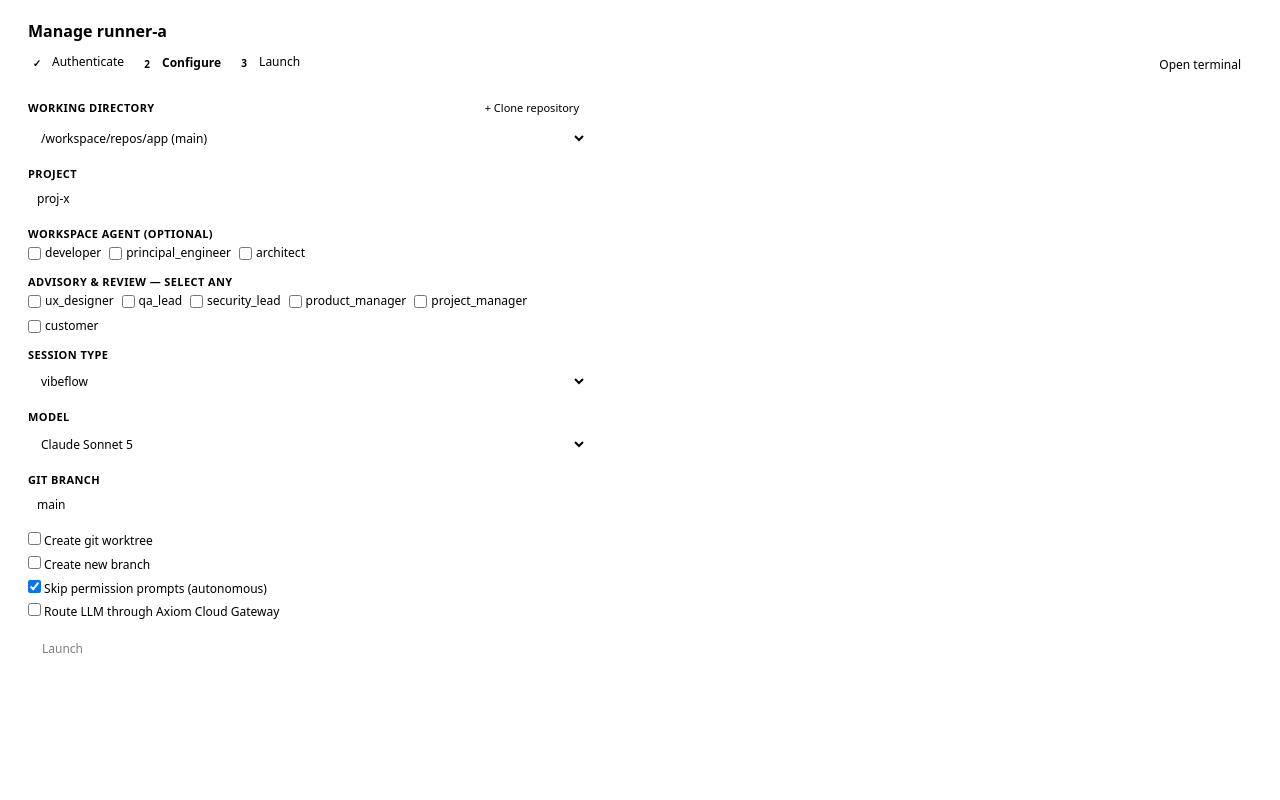
Test: CloudRunnerManageView › enables Launch with only an advisory persona — no workspace agent required (#3111)
Click the checkbox labelled "qa_lead" at (128, 302), box [122,295,135,308]
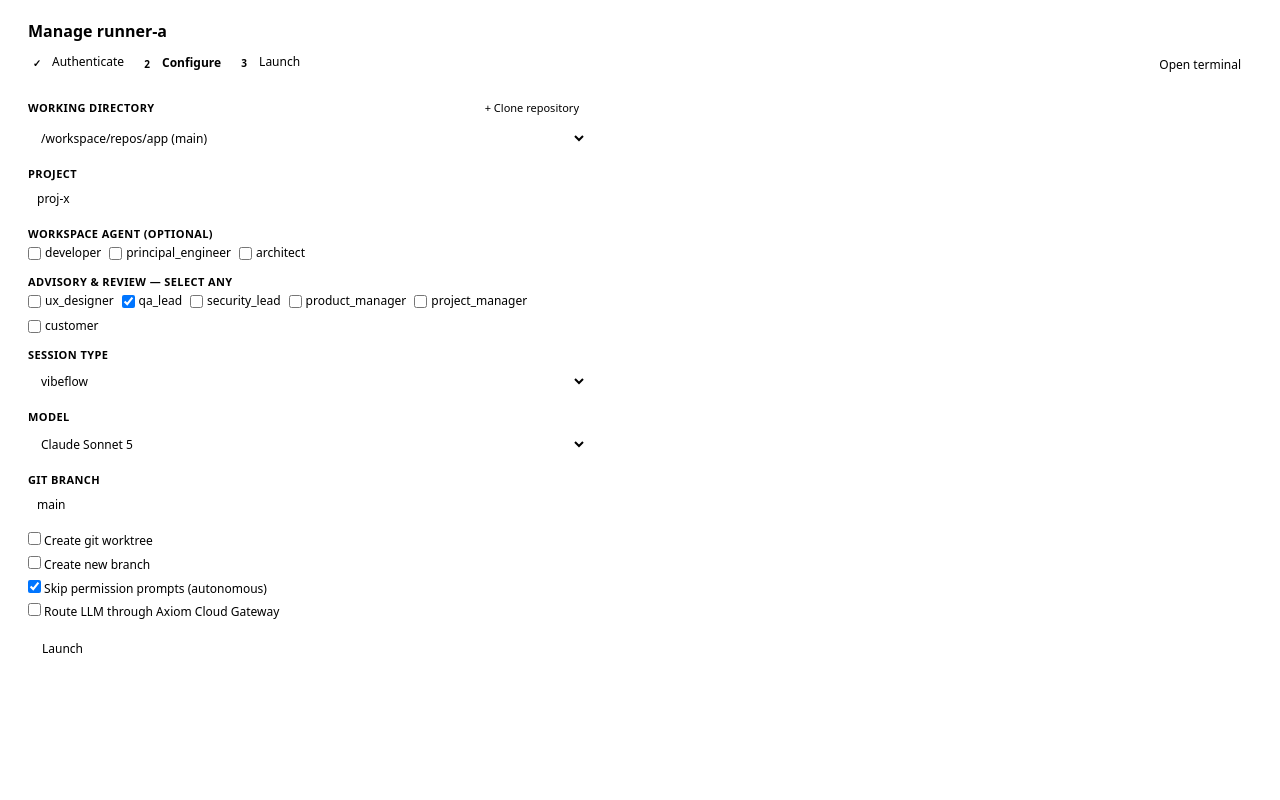
Check: the button "Launch" is enabled, box [28,635,97,664]
